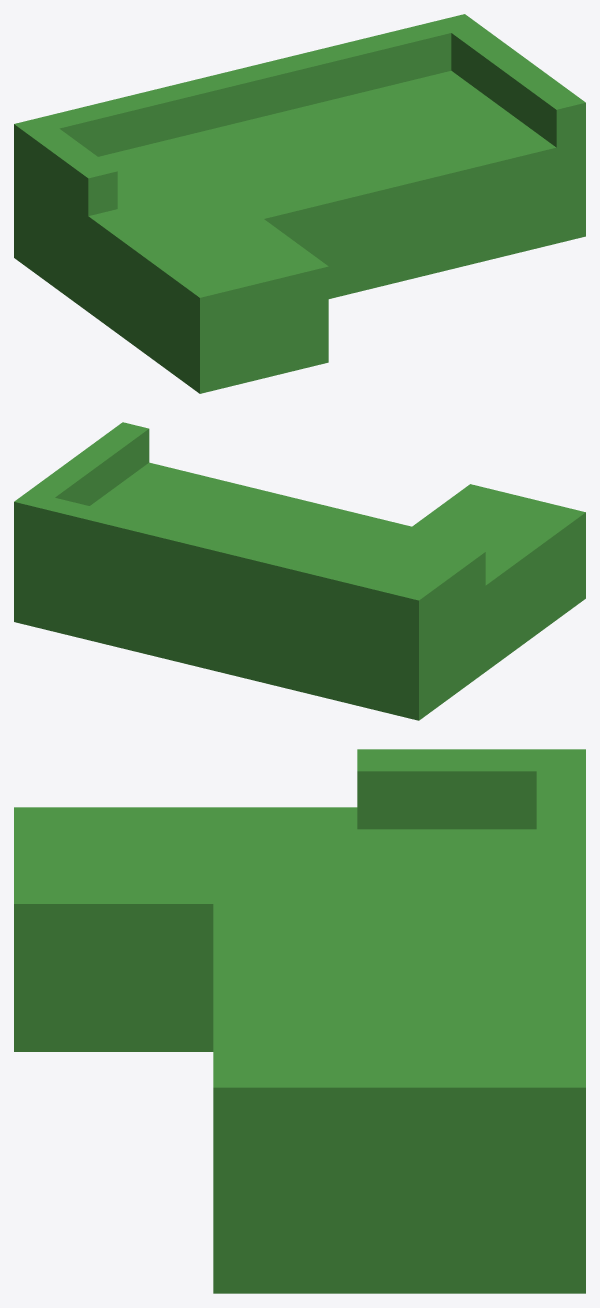
File: sofa.fbx
3 renders of one model, top to bottom at view 1: azimuth 30°, elevation 25°; view 2: azimuth 150°, elevation 25°; view 3: azimuth 270°, elevation 25°, orthographic. The views are drawn at different scales.
Parts seen in each view (by area): view 1: sofa; view 2: sofa; view 3: sofa.
Part boxes in pixels (x1=…): sofa: x1=14, y1=14, x2=585, y2=393; sofa: x1=14, y1=422, x2=585, y2=720; sofa: x1=14, y1=749, x2=585, y2=1293.
Bounding box in the file's own units: 700 × 199 × 500.
